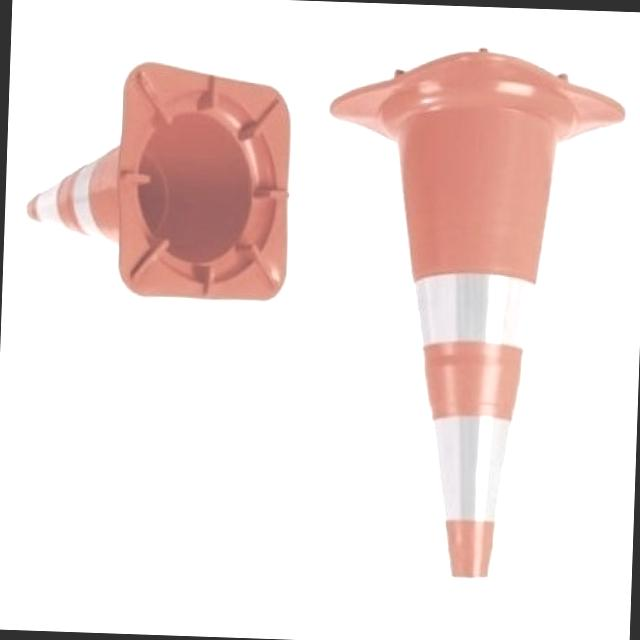cone: (307, 39, 629, 601), (1, 68, 303, 295)
